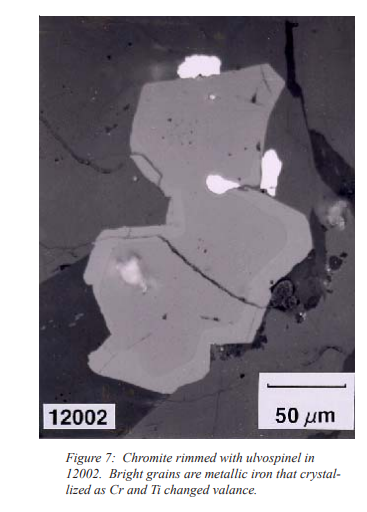Basalt: (51, 64, 330, 373)
